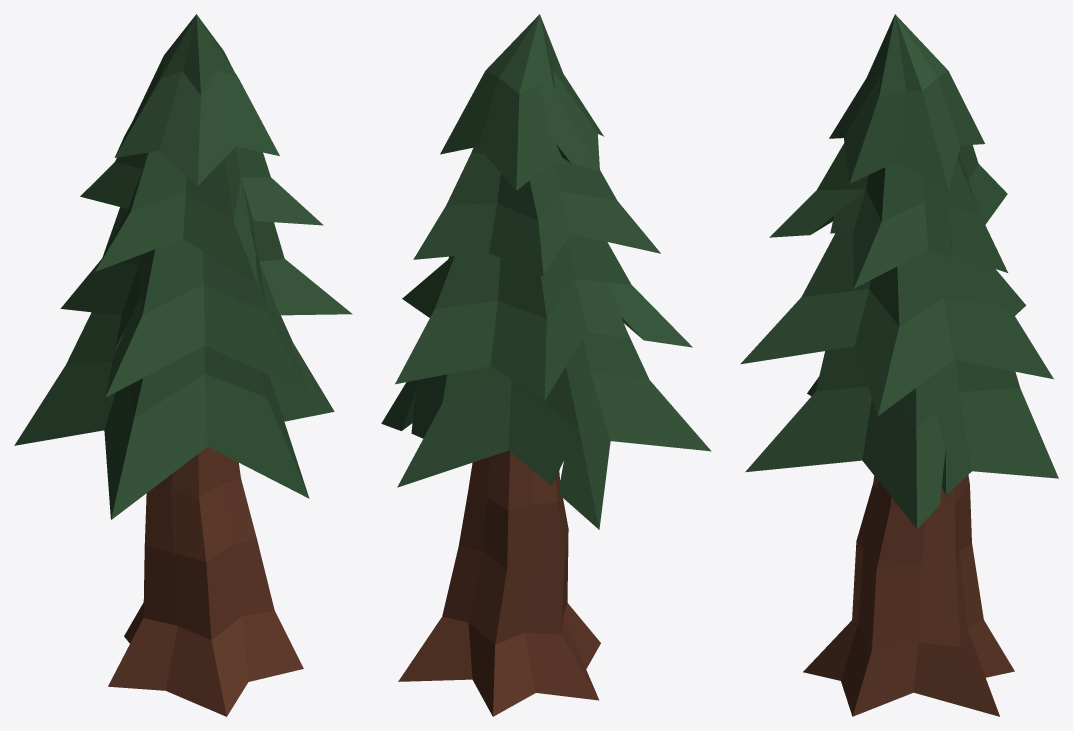
File: Pinetree1.fbx
3 views of the same model, side by side, from view 1: azimuth 30°, elevation 25°; view 2: azimuth 150°, elevation 25°; view 3: azimuth 270°, elevation 25° (orthographic).
Visible parts, largest first — view 1: mod_base1; view 2: mod_base1; view 3: mod_base1.
Boxes of the visible parts, bbox=[...] form: mod_base1: bbox=[14, 14, 352, 716]; mod_base1: bbox=[381, 14, 711, 716]; mod_base1: bbox=[740, 14, 1058, 716].
Size of the model in its own units: 3.23 by 7.37 by 3.2.
